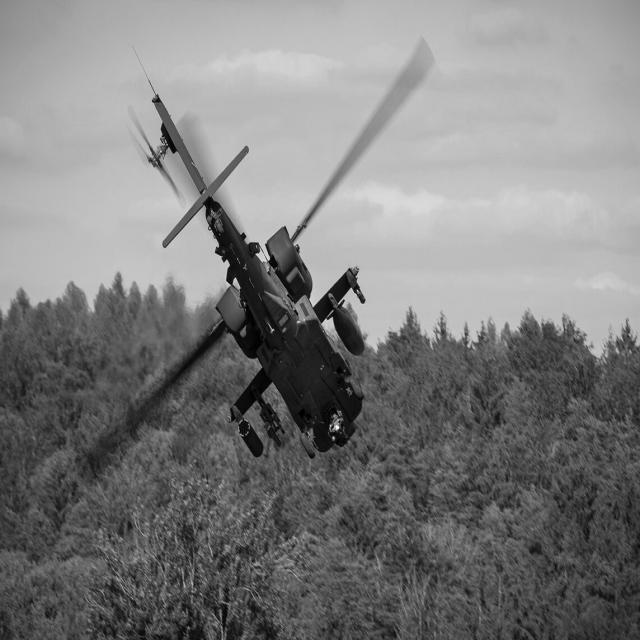helicopter: (67, 22, 445, 524)
